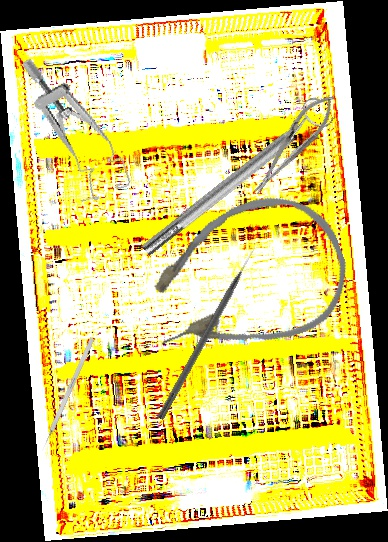Cannula: (126, 178, 364, 379)
Fixation Ring: (132, 93, 338, 265)
Hook Surgical: (156, 244, 260, 422), (40, 337, 95, 452)
Needle Holder: (243, 86, 344, 202)
Speculum: (19, 40, 134, 210)
